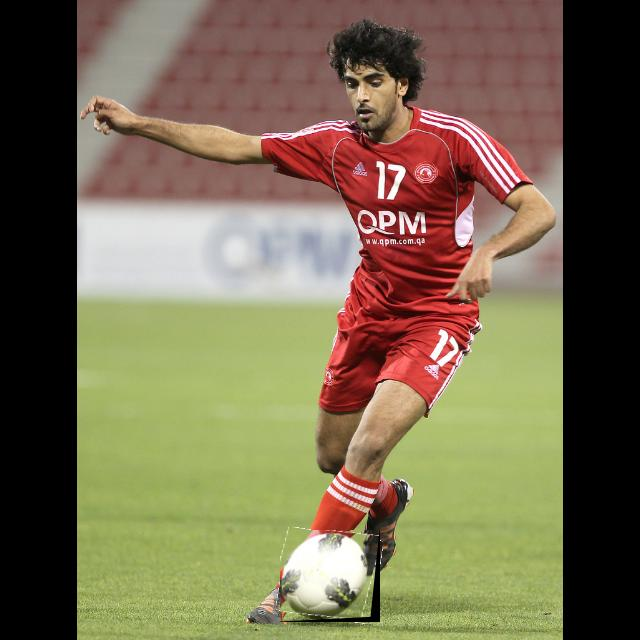Football: (280, 530, 380, 622)
